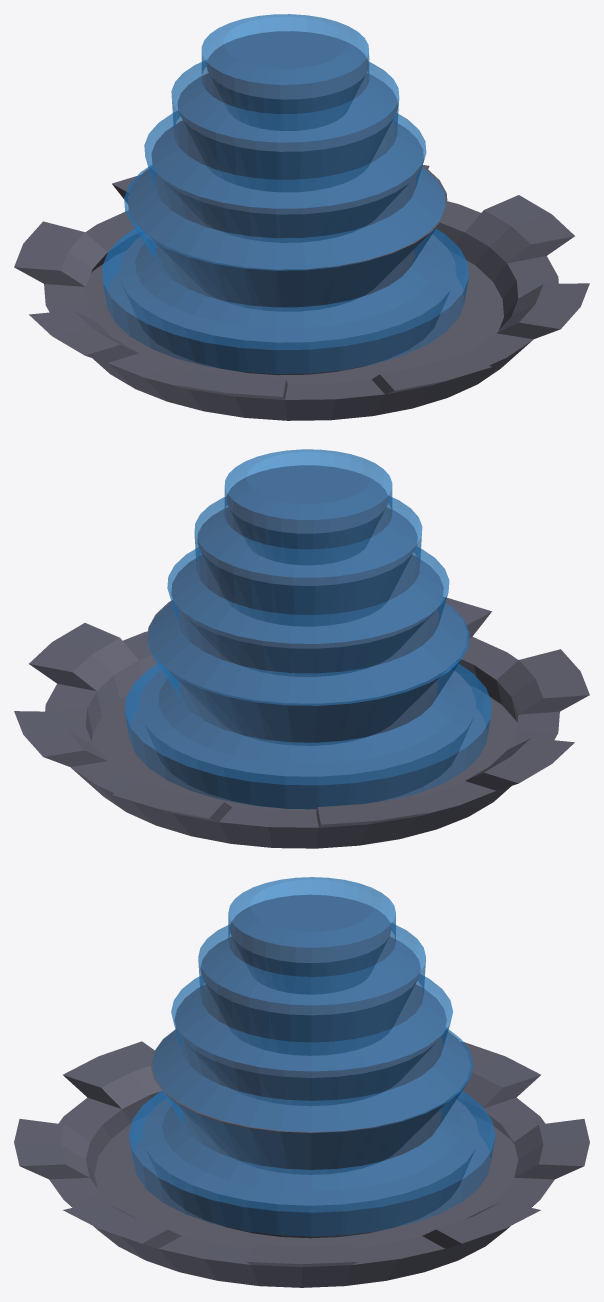
Rendered from funtn.fbx.
The picture shows the model from 3 angles, top to bottom: view 1: azimuth 30°, elevation 25°; view 2: azimuth 150°, elevation 25°; view 3: azimuth 270°, elevation 25°; orthographic projection.
Visible parts, largest first — view 1: Cylinder; view 2: Cylinder; view 3: Cylinder.
Part boxes in pixels (<box>): Cylinder: <box>14,14,589,420</box>; Cylinder: <box>14,449,589,848</box>; Cylinder: <box>14,877,589,1287</box>.
Bounding box in the file's own units: 3088 × 1675 × 3088.
